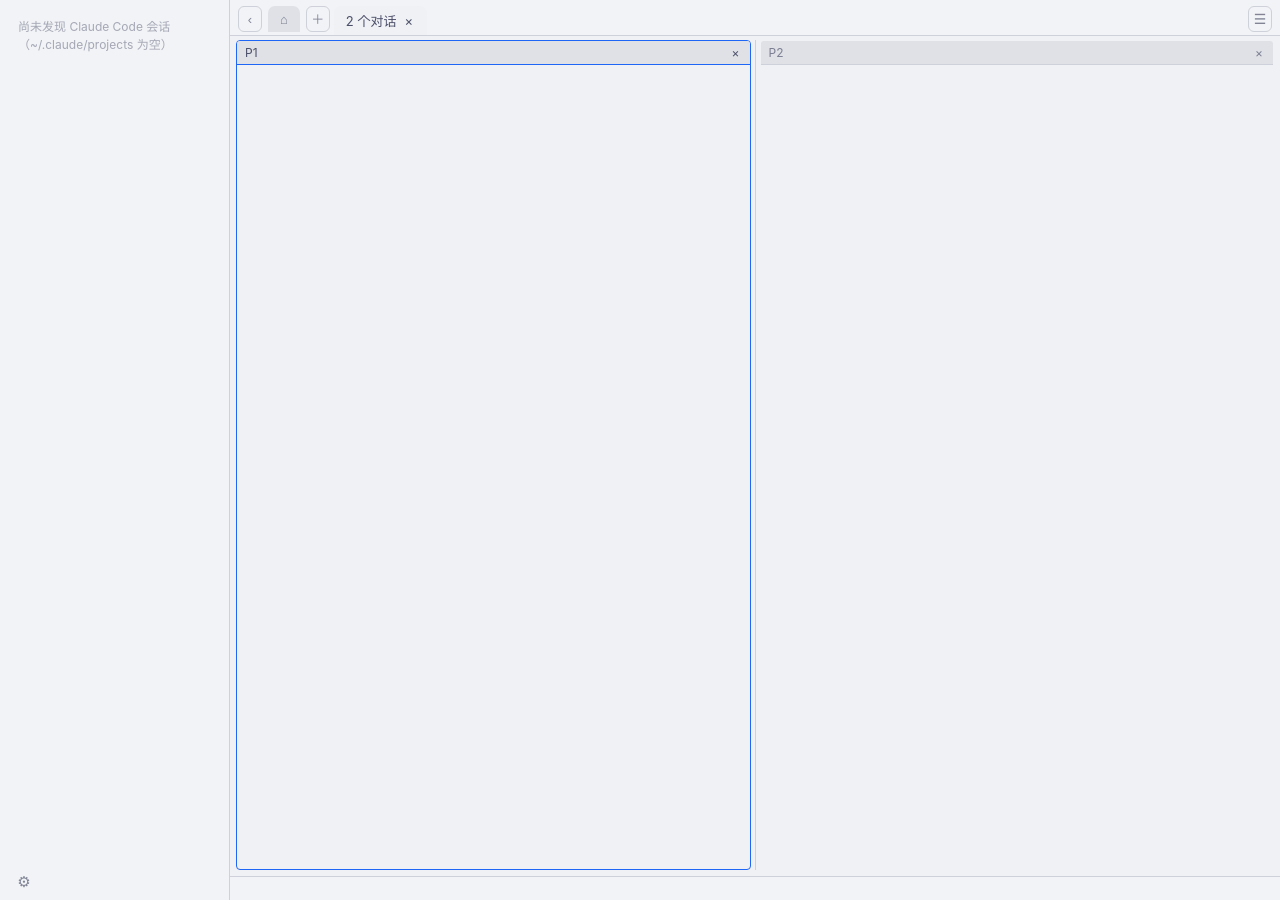
Test case: TabPanes — 右键窗格标题栏打开上下文菜单（设计文档 §5-C） › 右键打开菜单，列出「移出为独立标签」与「关闭窗格」两项
This screenshot has width=1280, height=900.
Right-click the text "P2": (1017, 53) x1=760 y1=41 x2=1273 y2=65
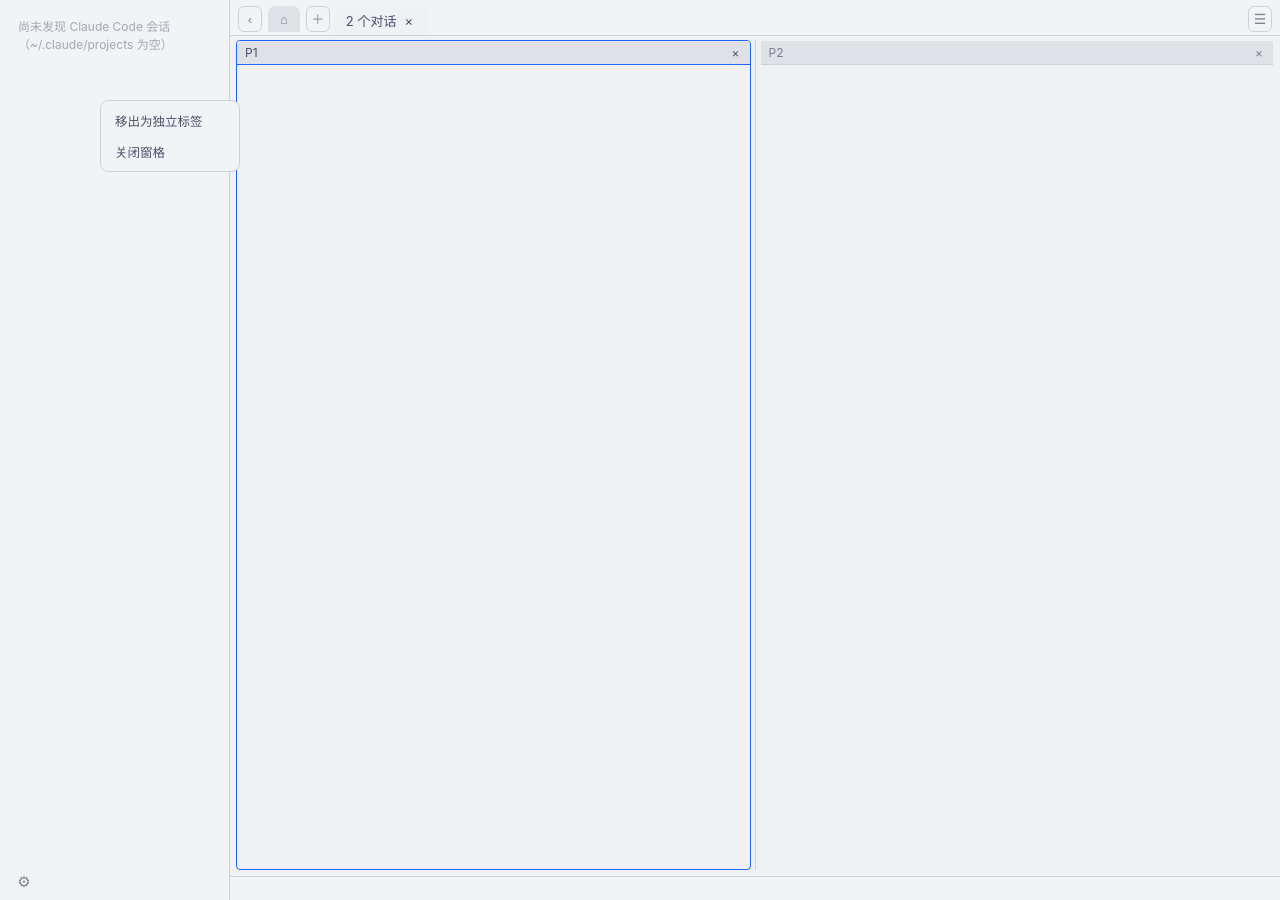
Expected: the menu item "移出为独立标签" is shown, x1=115 y1=114 x2=202 y2=129
Expected: the menu item "关闭窗格" is shown, x1=115 y1=145 x2=165 y2=160
